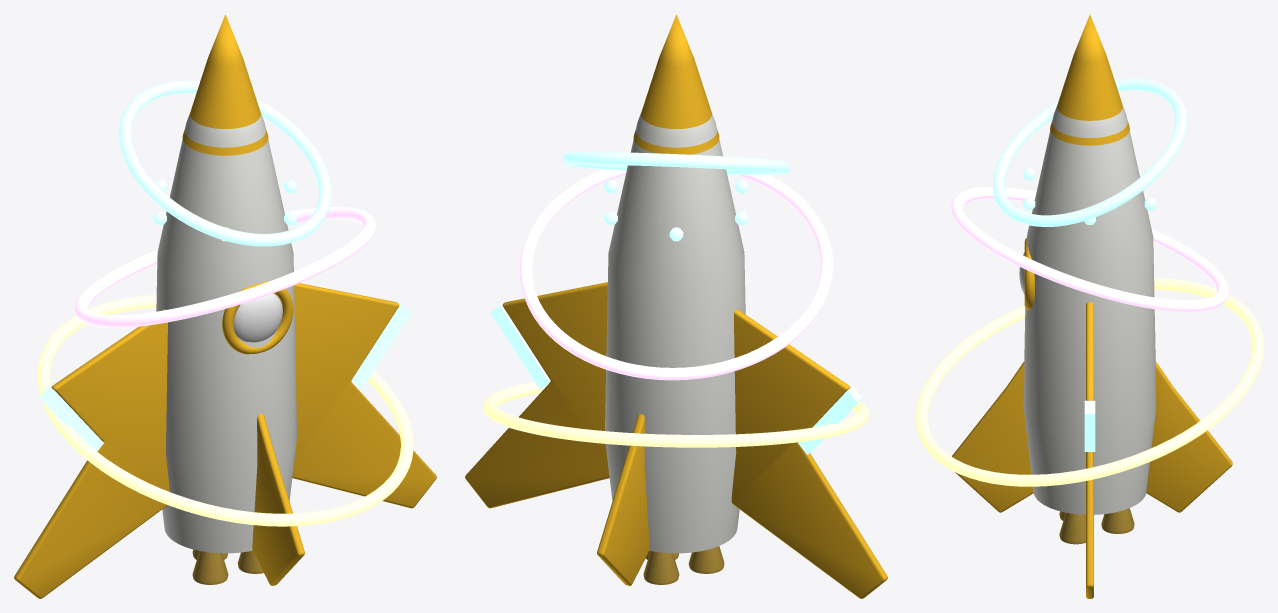
File: Rocket_40_CosmicLegend.fbx
3 renders of one model, left to right at view 1: azimuth 30°, elevation 25°; view 2: azimuth 150°, elevation 25°; view 3: azimuth 270°, elevation 25°, orthographic. The views are drawn at different scales.
Parts seen in each view (by area): view 1: R40_Body, R40_CrystalWing_2, R40_CrystalWing, R40_OrbitRing, R40_OrbitRing_3, R40_OrbitRing_2, R40_Nose, R40_Fin_2, R40_StarCore, R40_StarFrame, R40_WingGlow, R40_WingGlow_2 (+1 smaller); view 2: R40_Body, R40_CrystalWing_2, R40_CrystalWing, R40_OrbitRing_2, R40_OrbitRing, R40_Nose, R40_Fin, R40_OrbitRing_3, R40_WingGlow, R40_WingGlow_2, R40_Nozzle, R40_Nozzle_2; view 3: R40_Body, R40_OrbitRing, R40_Fin, R40_Fin_2, R40_OrbitRing_2, R40_OrbitRing_3, R40_Nose, R40_CrystalWing, R40_Nozzle_3, R40_Nozzle, R40_WingGlow, R40_StarFrame.
Part boxes in pixels (bbox=[...]): R40_Body: bbox=[156, 113, 296, 553]; R40_CrystalWing_2: bbox=[14, 309, 169, 598]; R40_CrystalWing: bbox=[292, 283, 436, 508]; R40_OrbitRing: bbox=[37, 295, 413, 526]; R40_OrbitRing_3: bbox=[119, 80, 331, 246]; R40_OrbitRing_2: bbox=[74, 207, 376, 327]; R40_Nose: bbox=[182, 14, 268, 155]; R40_Fin_2: bbox=[252, 413, 304, 585]; R40_StarCore: bbox=[233, 294, 282, 342]; R40_StarFrame: bbox=[222, 281, 293, 354]; R40_WingGlow: bbox=[351, 301, 411, 389]; R40_WingGlow_2: bbox=[39, 386, 103, 451]; R40_Body: bbox=[605, 113, 745, 553]; R40_CrystalWing_2: bbox=[731, 309, 887, 598]; R40_CrystalWing: bbox=[465, 282, 609, 508]; R40_OrbitRing_2: bbox=[519, 169, 833, 380]; R40_OrbitRing: bbox=[483, 382, 869, 447]; R40_Nose: bbox=[633, 14, 719, 154]; R40_Fin: bbox=[597, 413, 649, 585]; R40_OrbitRing_3: bbox=[562, 152, 790, 174]; R40_WingGlow: bbox=[490, 301, 550, 389]; R40_WingGlow_2: bbox=[798, 386, 862, 454]; R40_Nozzle: bbox=[643, 551, 679, 584]; R40_Nozzle_2: bbox=[688, 546, 724, 573]; R40_Body: bbox=[1023, 105, 1156, 514]; R40_OrbitRing: bbox=[916, 278, 1263, 486]; R40_Fin: bbox=[1146, 361, 1232, 512]; R40_Fin_2: bbox=[952, 361, 1033, 512]; R40_OrbitRing_2: bbox=[951, 187, 1228, 311]; R40_OrbitRing_3: bbox=[992, 78, 1187, 226]; R40_Nose: bbox=[1050, 14, 1129, 145]; R40_CrystalWing: bbox=[1086, 302, 1093, 598]; R40_Nozzle_3: bbox=[1059, 512, 1085, 544]; R40_Nozzle: bbox=[1101, 508, 1134, 533]; R40_WingGlow: bbox=[1084, 400, 1095, 451]; R40_StarFrame: bbox=[1024, 238, 1035, 310].
Size of the model in its own units: 6.77 by 8.5 by 5.22.
